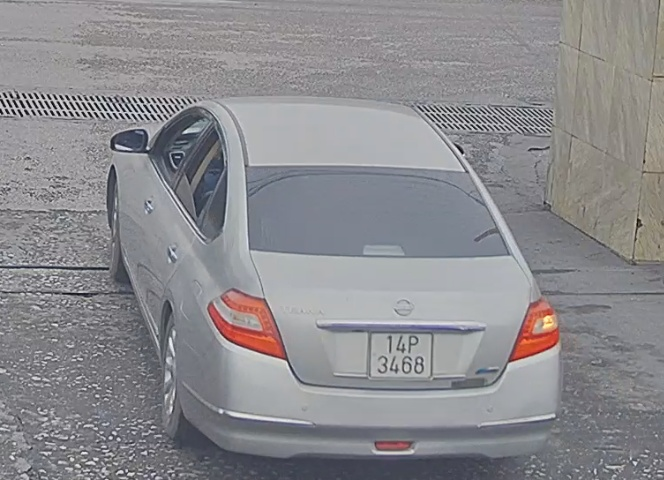vehicle plate: (367, 325, 443, 384)
